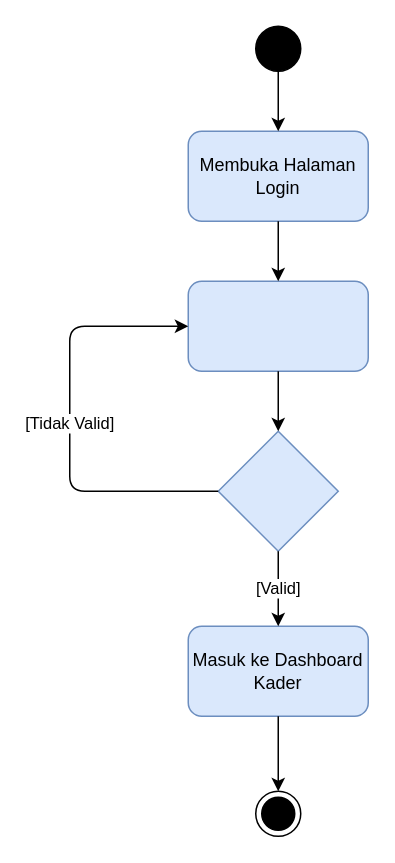
Image size: 395x863. Some labels were removed from this diagram. The box of each missing label's shape, as (x1, y1, x2, y2) in pixels:
Input Username & Password Kader: (187, 280, 368, 371)
Validasi Akun: (217, 430, 338, 551)
